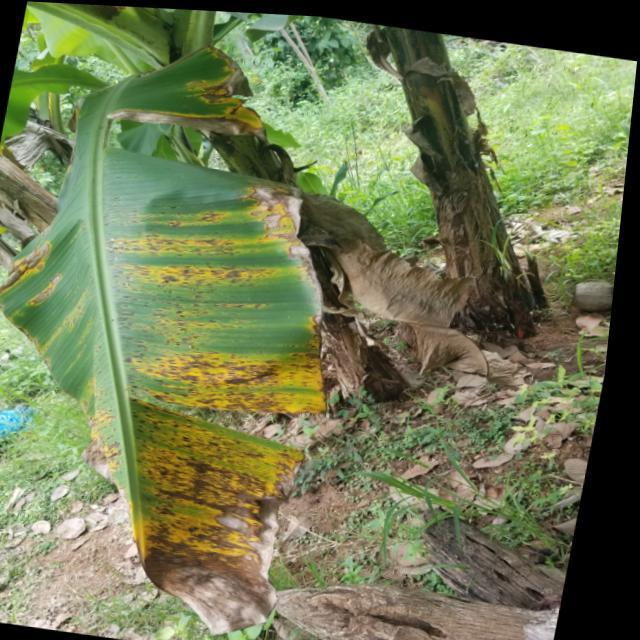Early_rust: (5, 46, 337, 628)
